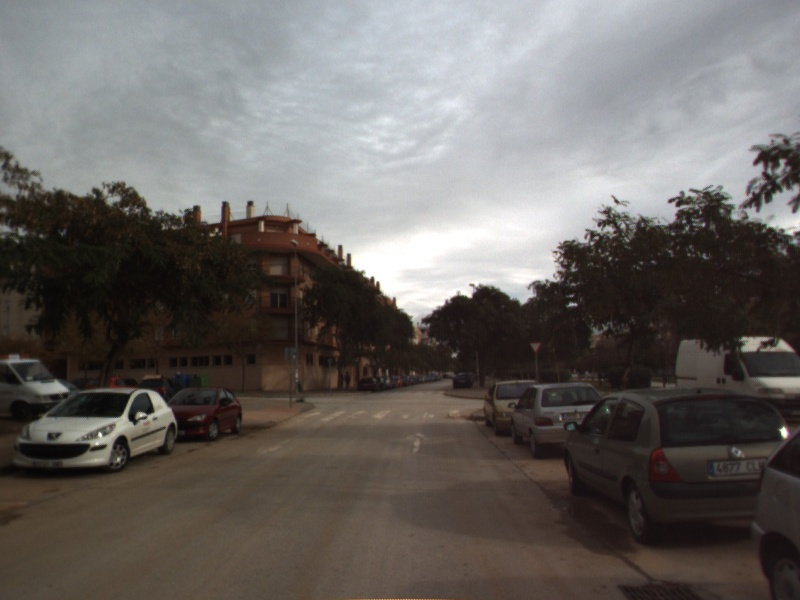STRAIGHT: (401, 430, 432, 454)
